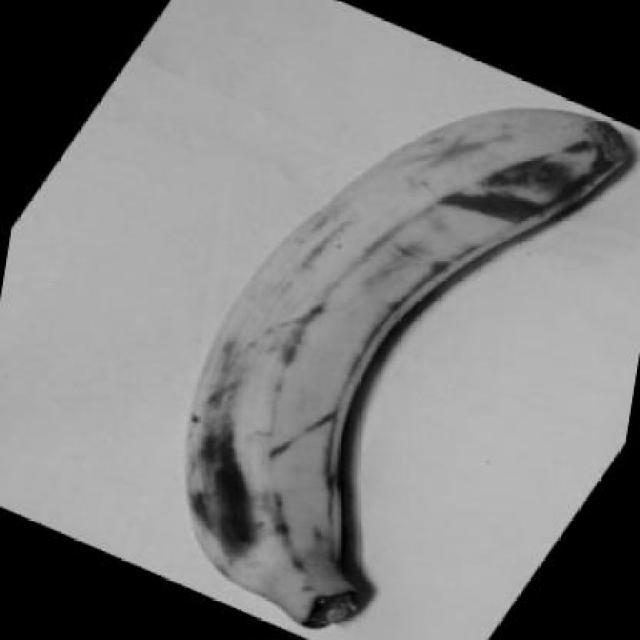Overripe: (125, 55, 640, 640)
